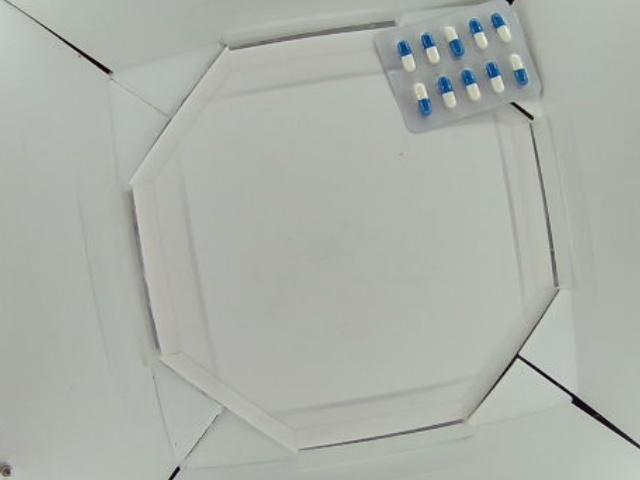Medicine: (372, 1, 544, 130)
